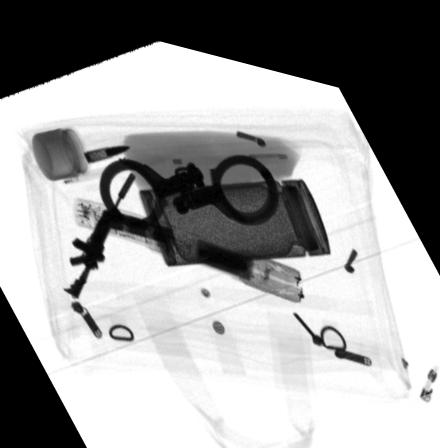Baton: (73, 191, 303, 288)
Bullet: (82, 135, 132, 157)
Gun: (59, 162, 136, 296)
HandCuffs: (97, 140, 280, 223)
